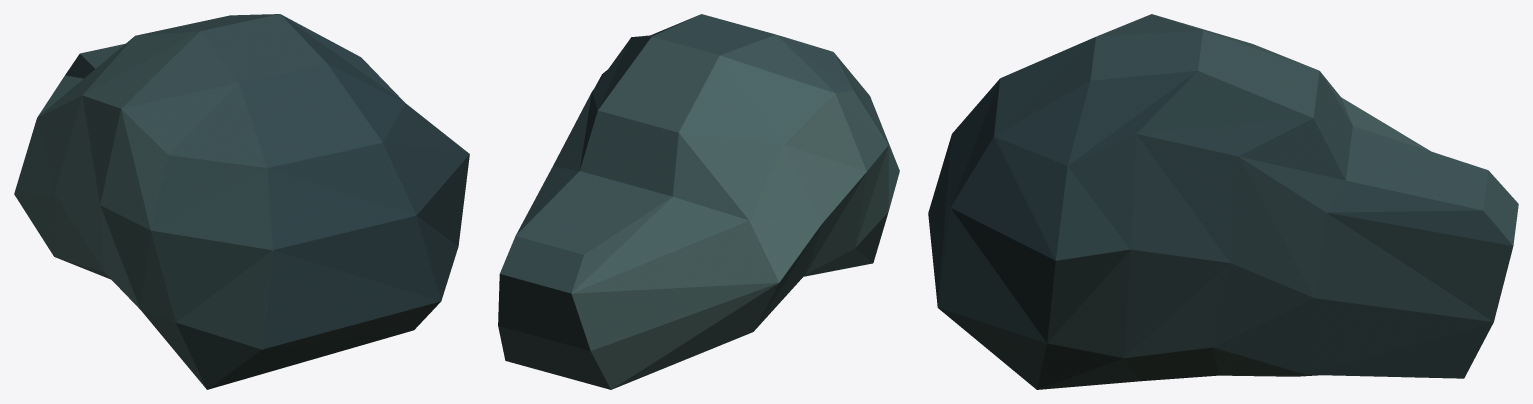
The model's file is Medium.obj.
3 renders of one model, left to right at view 1: azimuth 30°, elevation 25°; view 2: azimuth 150°, elevation 25°; view 3: azimuth 270°, elevation 25°, orthographic. The views are drawn at different scales.
Parts seen in each view (by area): view 1: Medium; view 2: Medium; view 3: Medium.
Boxes of the visible parts, x1,y1,x2,y2 form: Medium: [14, 14, 469, 389]; Medium: [498, 14, 899, 389]; Medium: [928, 14, 1518, 389].
Size of the model in its own units: 0.3437 by 0.2723 by 0.5033.
1 material, 1 textured.
